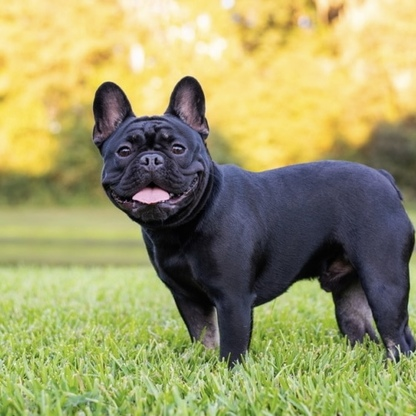bulldog: (89, 74, 416, 371)
